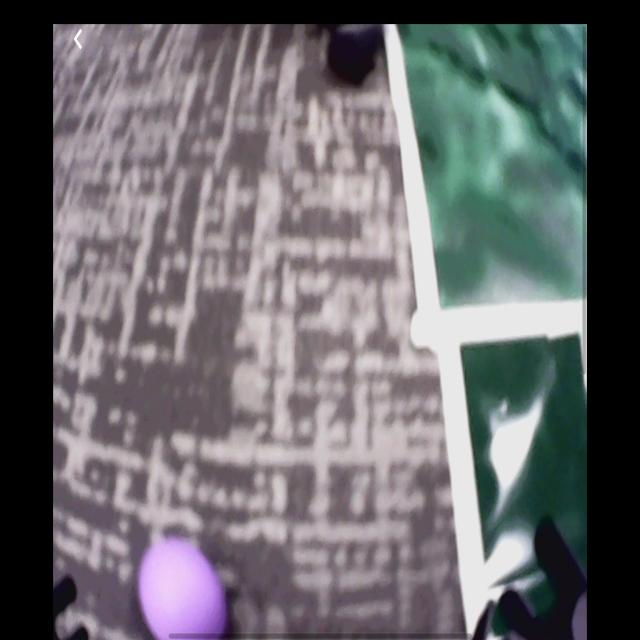ball: (138, 540, 229, 639)
